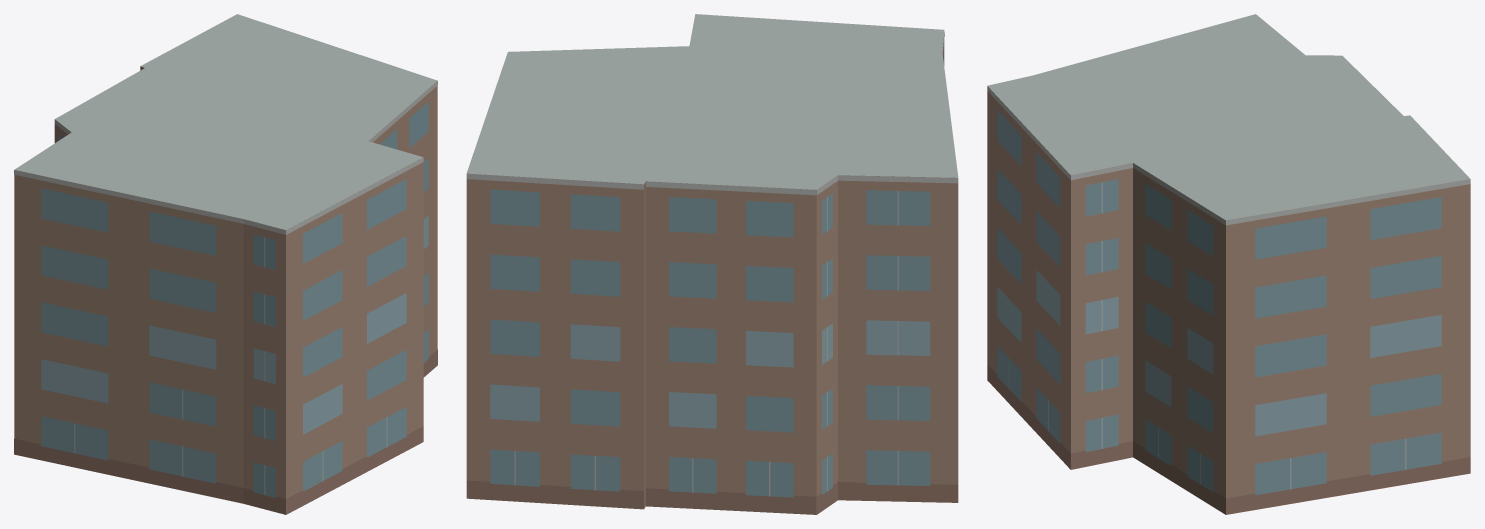
File: survey-upis-32492819.glb
The picture shows the model from 3 angles, left to right: view 1: azimuth 30°, elevation 25°; view 2: azimuth 150°, elevation 25°; view 3: azimuth 270°, elevation 25°; orthographic projection. The views are drawn at different scales.
Visible parts, largest first — view 1: survey-upis-32492819.tmp; view 2: survey-upis-32492819.tmp; view 3: survey-upis-32492819.tmp.
Part boxes in pixels (bbox=[...]): survey-upis-32492819.tmp: bbox=[14, 14, 437, 514]; survey-upis-32492819.tmp: bbox=[466, 14, 958, 514]; survey-upis-32492819.tmp: bbox=[987, 14, 1470, 514].
Size of the model in its own units: 21.82 by 14.5 by 21.59.
